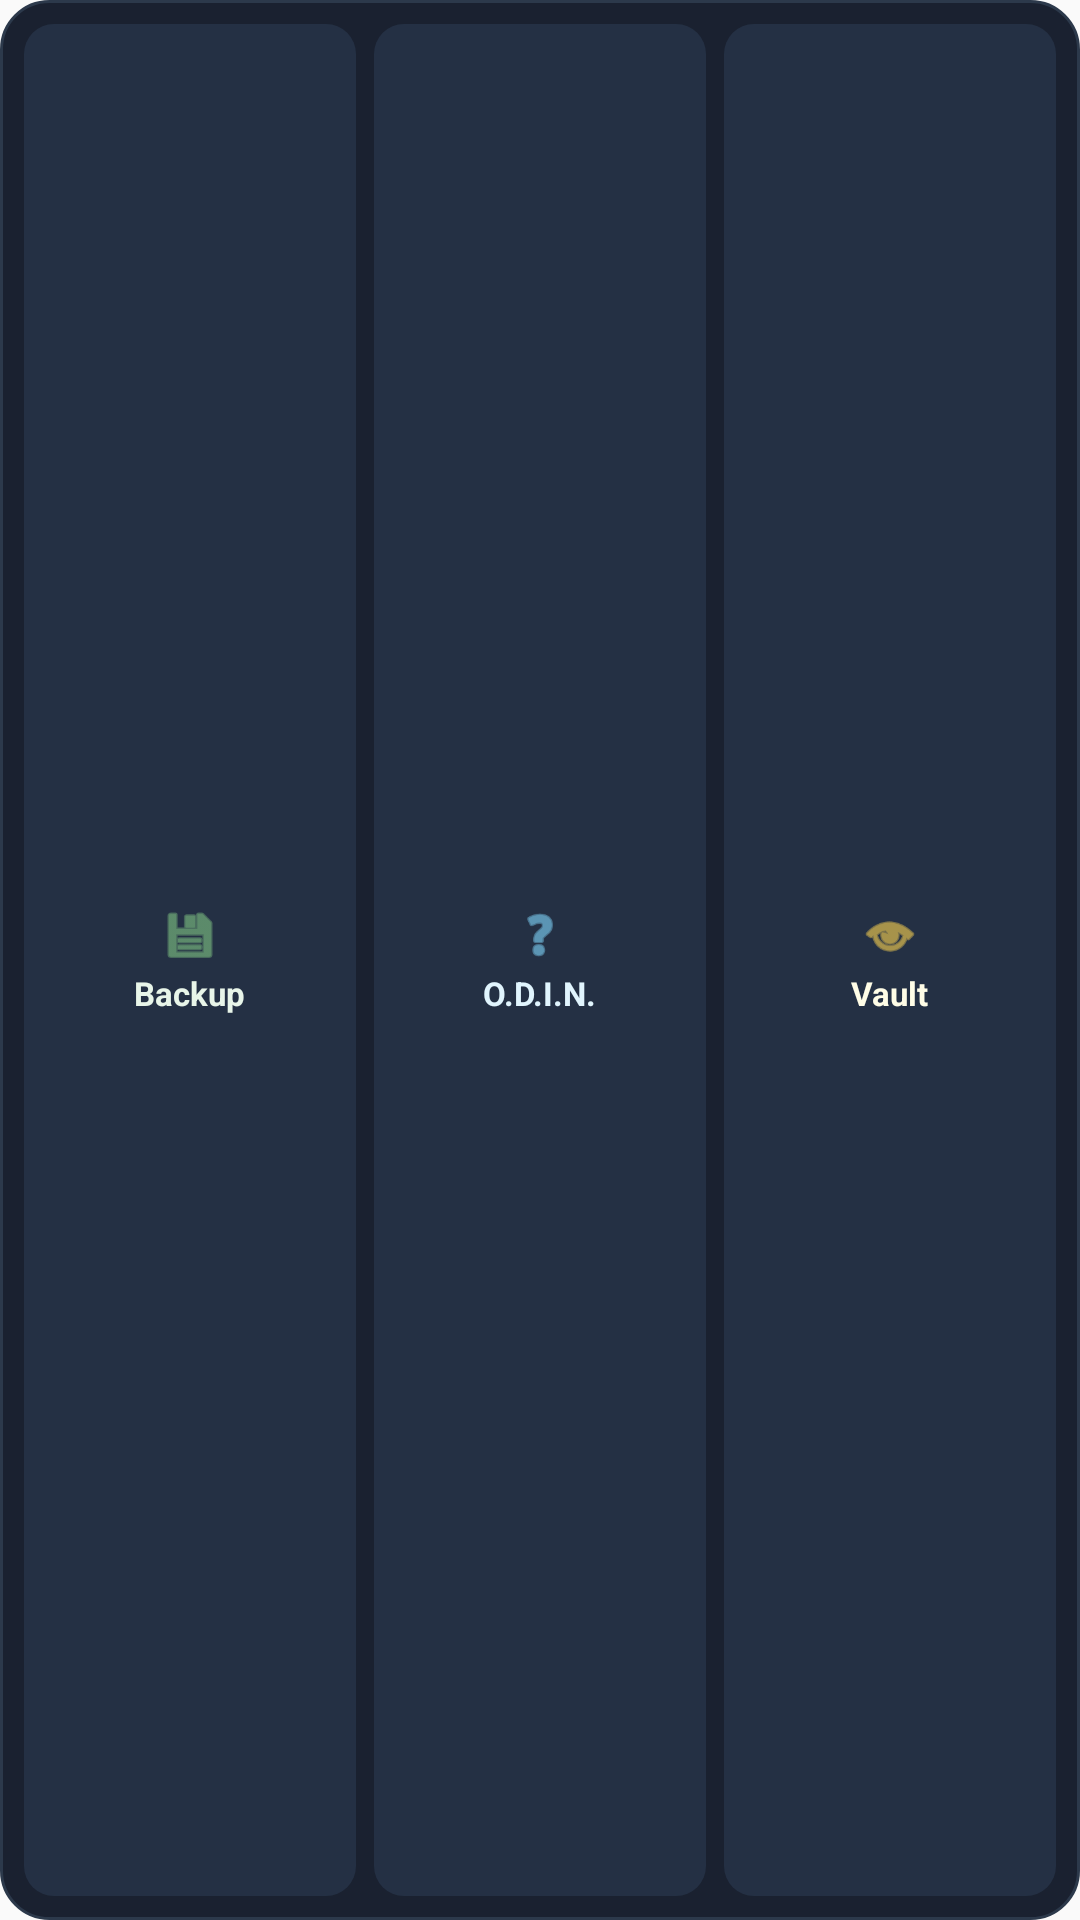

Named icons in this screenshot (1080x1920) and their bounding boxes, (x1, y1, x2, y2):
help: (527, 914, 553, 956)
save: (167, 912, 213, 958)
view: (866, 921, 914, 952)
